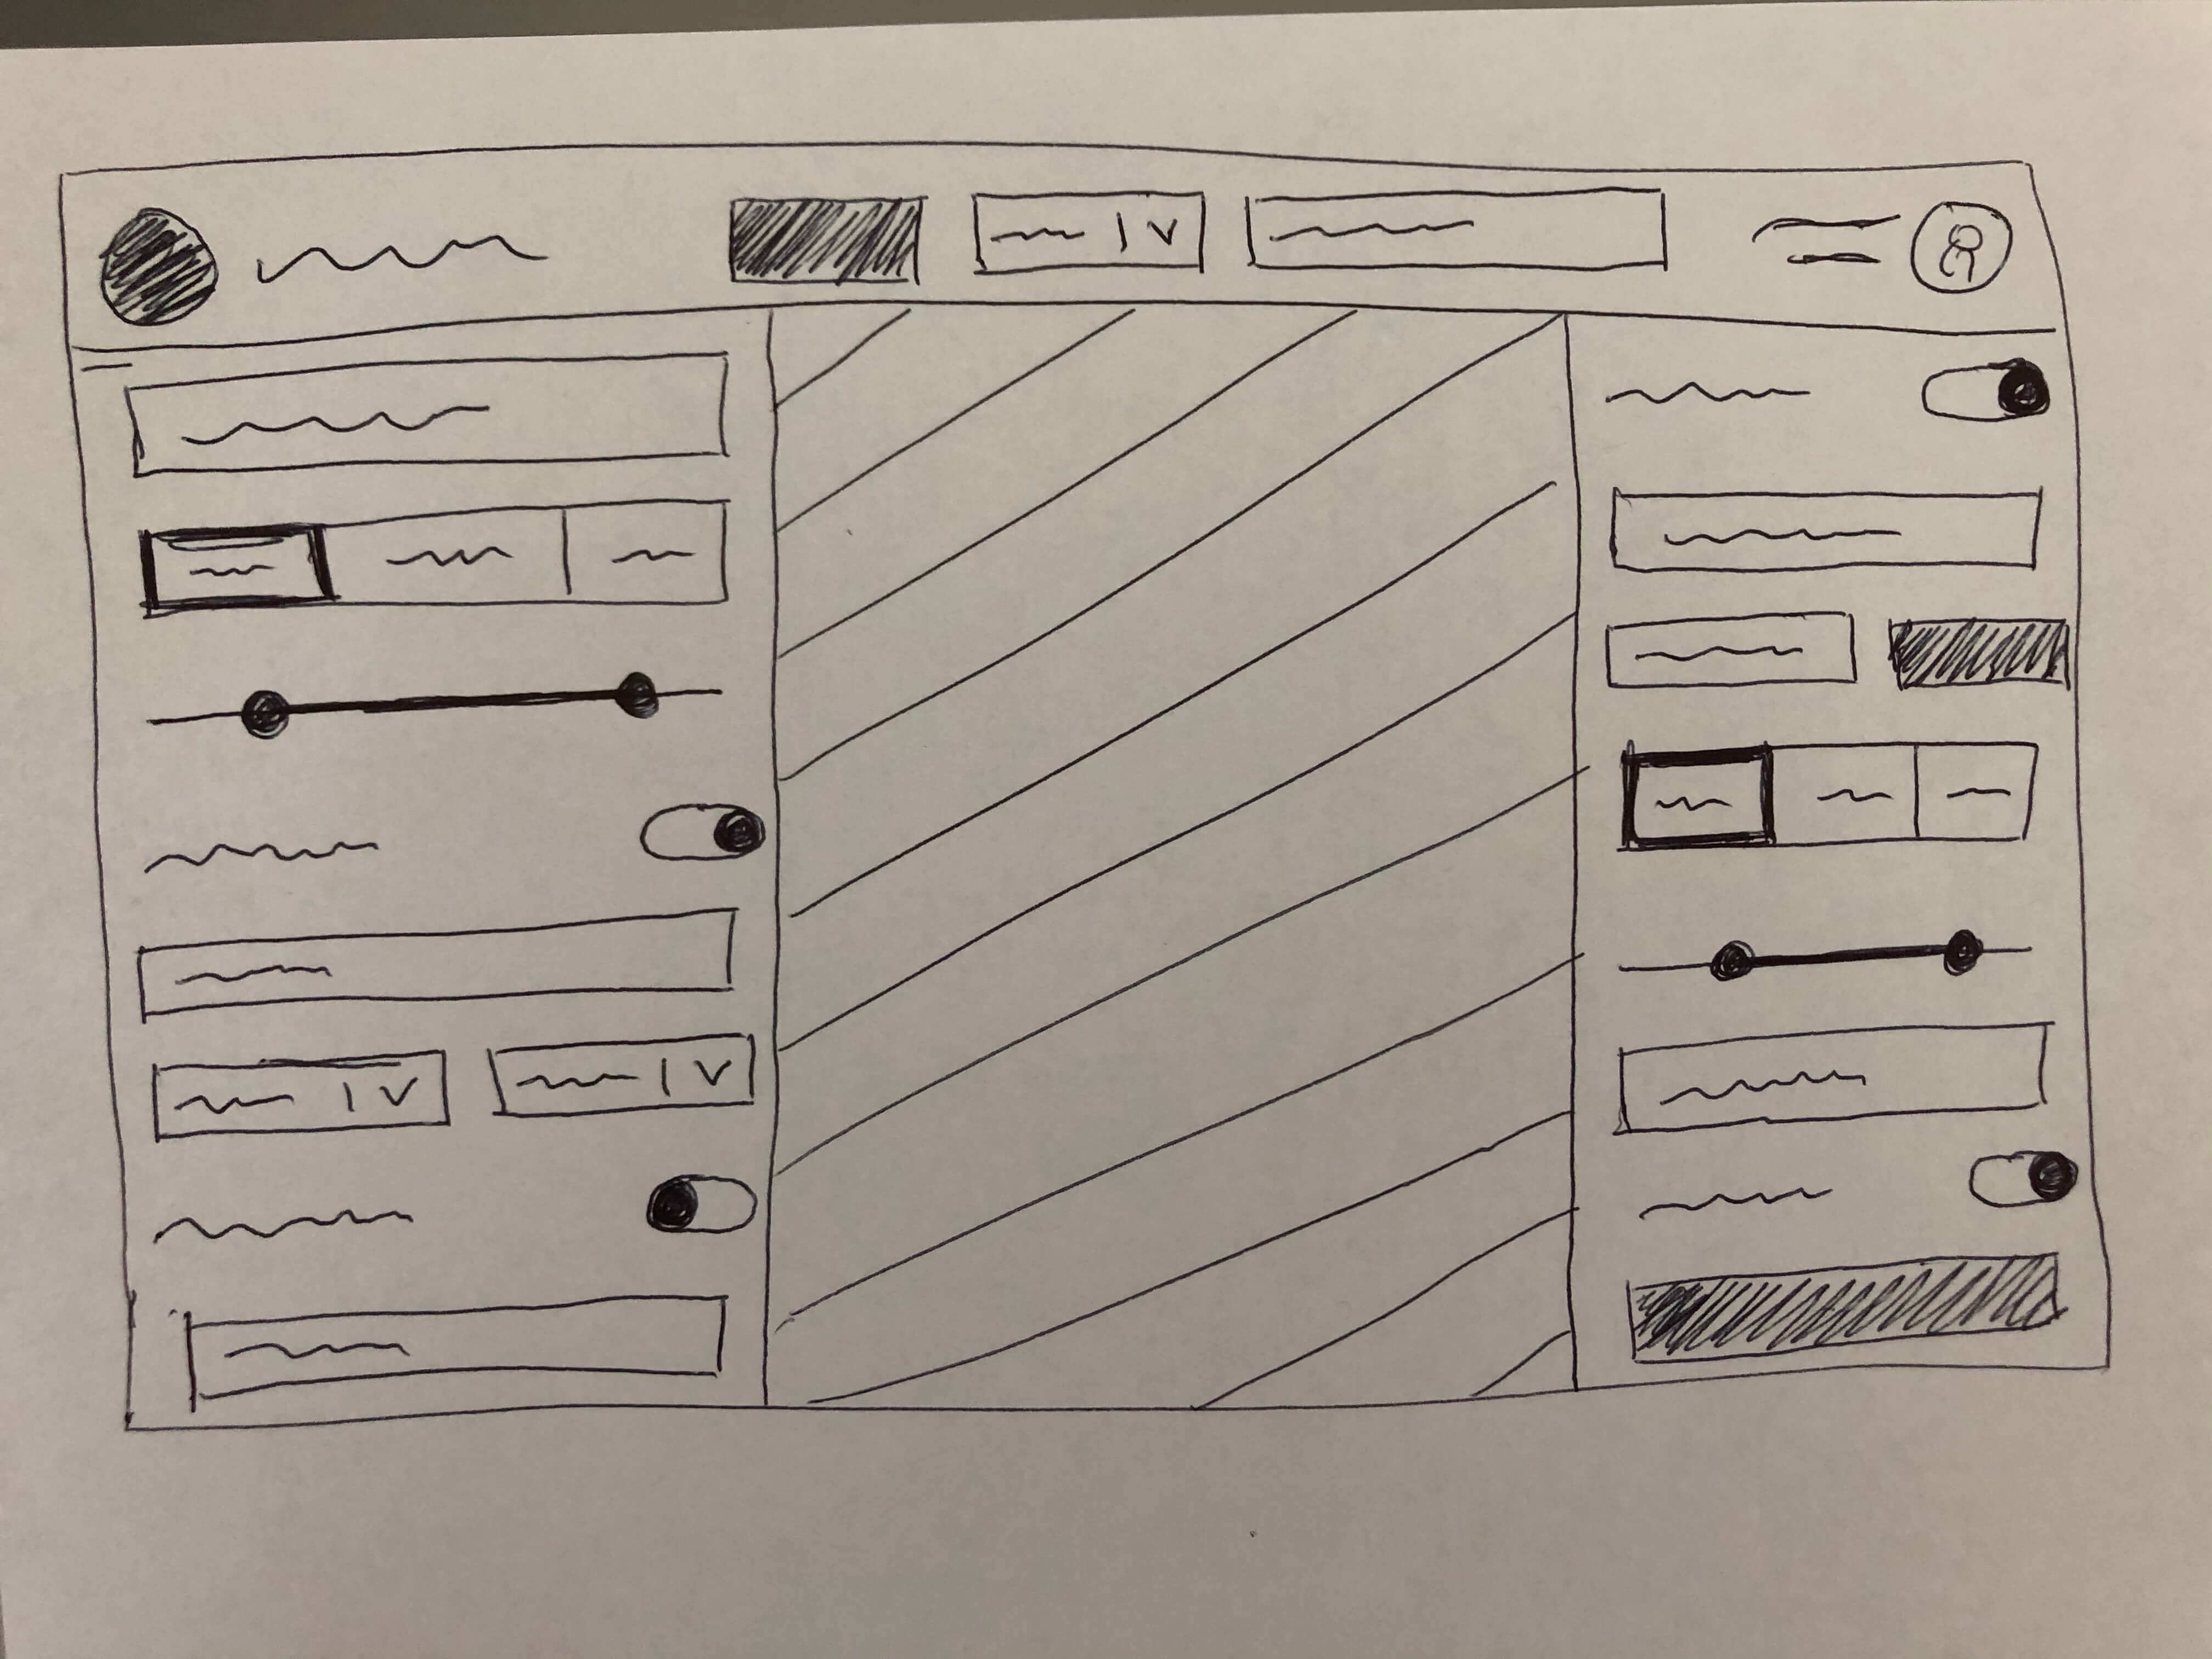avatar: (1743, 190, 2015, 307)
button: (1622, 1243, 2074, 1366), (725, 178, 934, 298), (1885, 606, 2073, 695)
input: (124, 345, 737, 469), (131, 904, 745, 1019), (169, 1283, 730, 1392), (1240, 174, 1686, 295), (1615, 1019, 2048, 1129), (1608, 477, 2055, 582), (1604, 608, 1864, 699)
radio-group: (134, 491, 735, 615), (1622, 735, 2045, 859)
slider: (143, 662, 730, 748), (1616, 929, 2050, 993)
split-button: (965, 174, 1219, 288)
switch: (1909, 352, 2055, 429), (634, 793, 768, 870), (641, 1166, 763, 1241), (1965, 1141, 2085, 1216)
